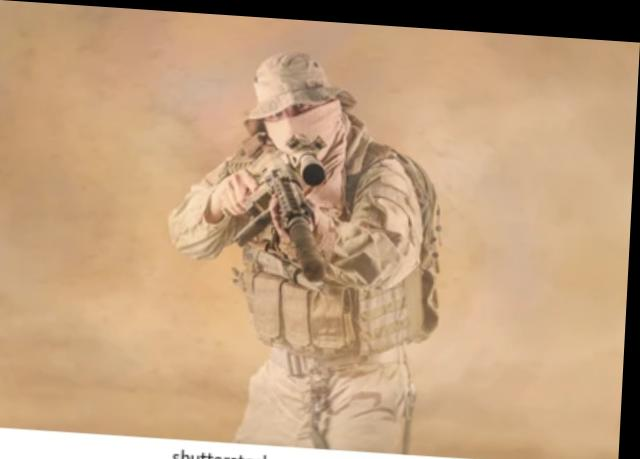other: (169, 42, 443, 442)
